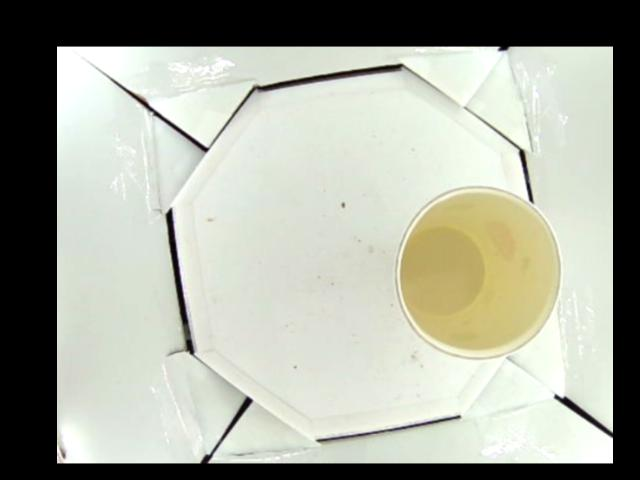Cup: (394, 185, 563, 356)
